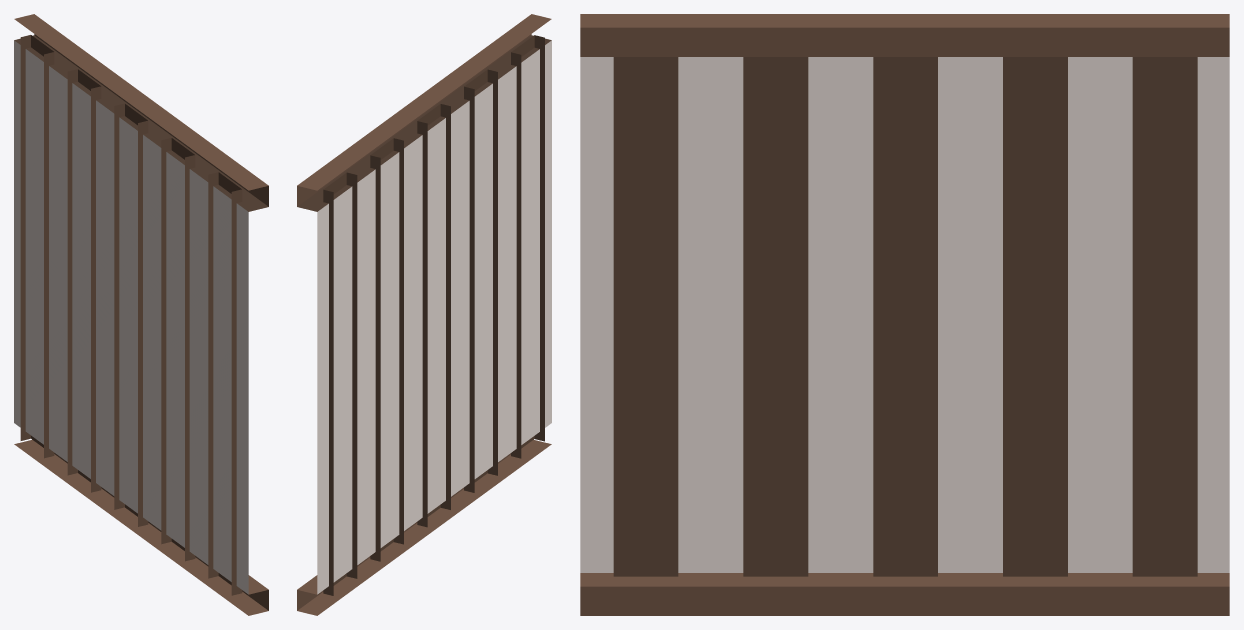
The model's file is basic_wall_005.fbx.
The picture shows the model from 3 angles, left to right: view 1: azimuth 30°, elevation 25°; view 2: azimuth 150°, elevation 25°; view 3: azimuth 270°, elevation 25°; orthographic projection. The views are drawn at different scales.
Parts seen in each view (by area): view 1: Base_Wall.005; view 2: Base_Wall.005; view 3: Base_Wall.005.
Boxes of the visible parts, <box> form: Base_Wall.005: <box>14,14,268,615</box>; Base_Wall.005: <box>297,14,551,615</box>; Base_Wall.005: <box>580,14,1229,615</box>.
Size of the model in its own units: 200 by 12.41 by 200.
